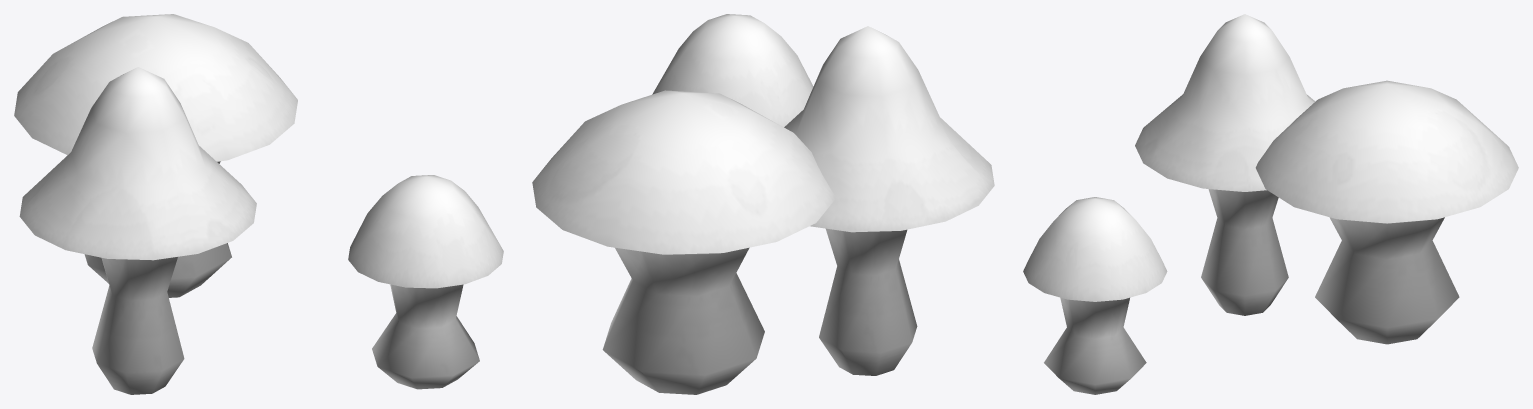
File: FloorDeco1B-004_02_09_5122.fbx
The picture shows the model from 3 angles, left to right: view 1: azimuth 30°, elevation 25°; view 2: azimuth 150°, elevation 25°; view 3: azimuth 270°, elevation 25°; orthographic projection. The views are drawn at different scales.
Visible parts, largest first — view 1: Shroom2 (1), Shroom1 (1), Shroom3 (1); view 2: Shroom1 (1), Shroom2 (1), Shroom3 (1); view 3: Shroom1 (1), Shroom2 (1), Shroom3 (1).
Boxes of the visible parts, bbox=[...] form: Shroom2 (1): bbox=[19, 67, 256, 394]; Shroom1 (1): bbox=[14, 14, 297, 297]; Shroom3 (1): bbox=[348, 175, 503, 389]; Shroom1 (1): bbox=[532, 90, 835, 394]; Shroom2 (1): bbox=[784, 26, 994, 375]; Shroom3 (1): bbox=[652, 14, 813, 127]; Shroom1 (1): bbox=[1255, 80, 1518, 344]; Shroom2 (1): bbox=[1135, 14, 1315, 315]; Shroom3 (1): bbox=[1023, 197, 1167, 394].
Size of the model in its own units: 1.1 by 0.8799 by 1.36.
